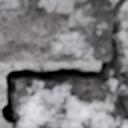brick: (0, 0, 110, 61)
broken_brick: (10, 76, 117, 127), (123, 70, 127, 127)
crack: (0, 0, 126, 127)
